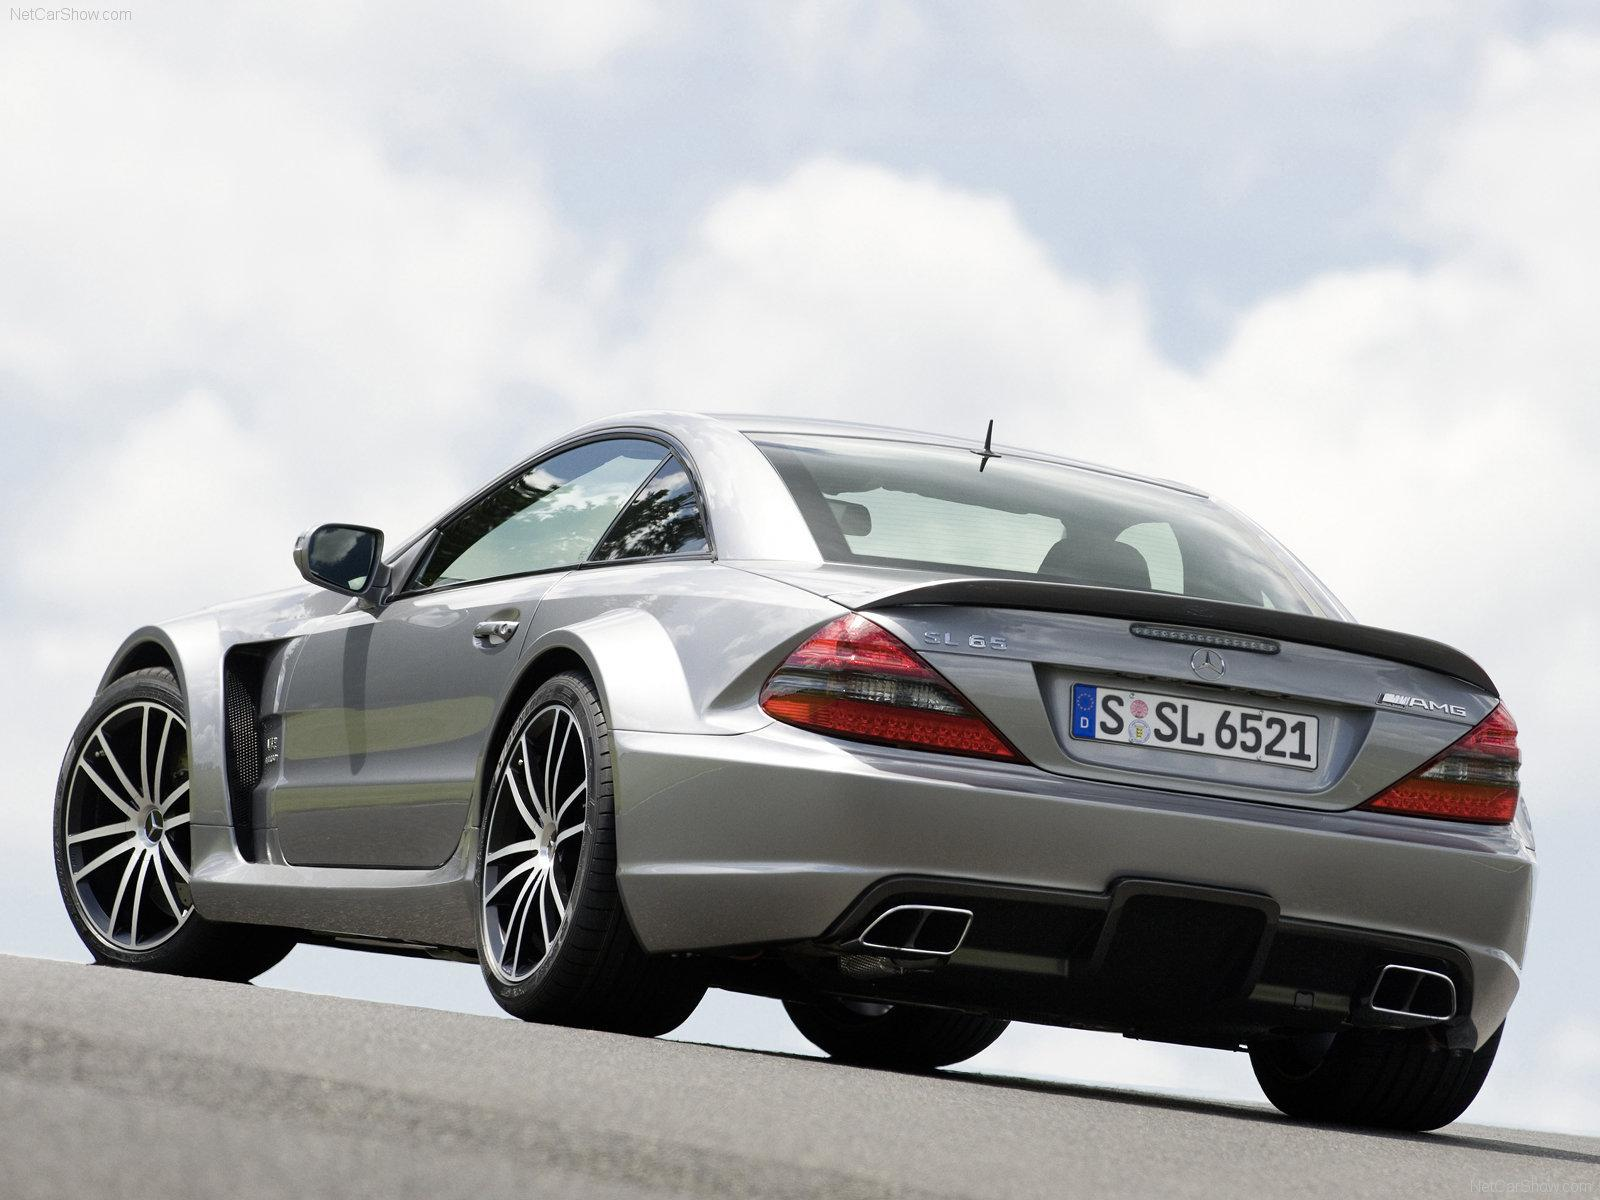car: (34, 367, 1572, 1162)
